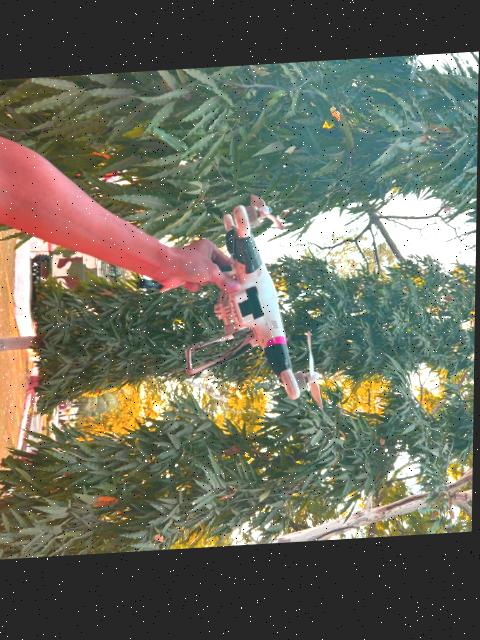drone: (144, 168, 350, 441)
